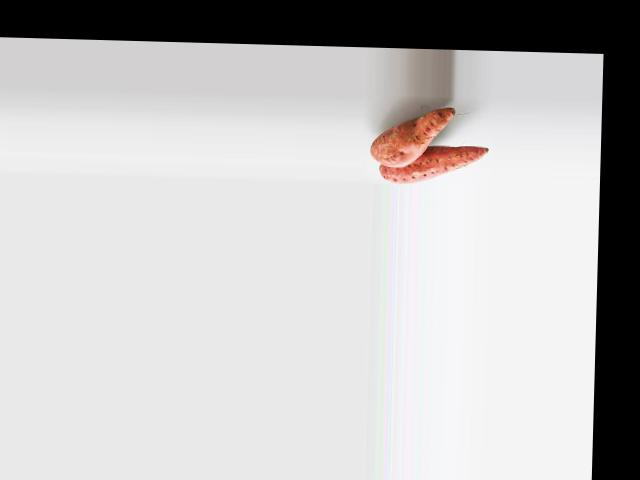sweet_potato: (379, 143, 481, 184)
